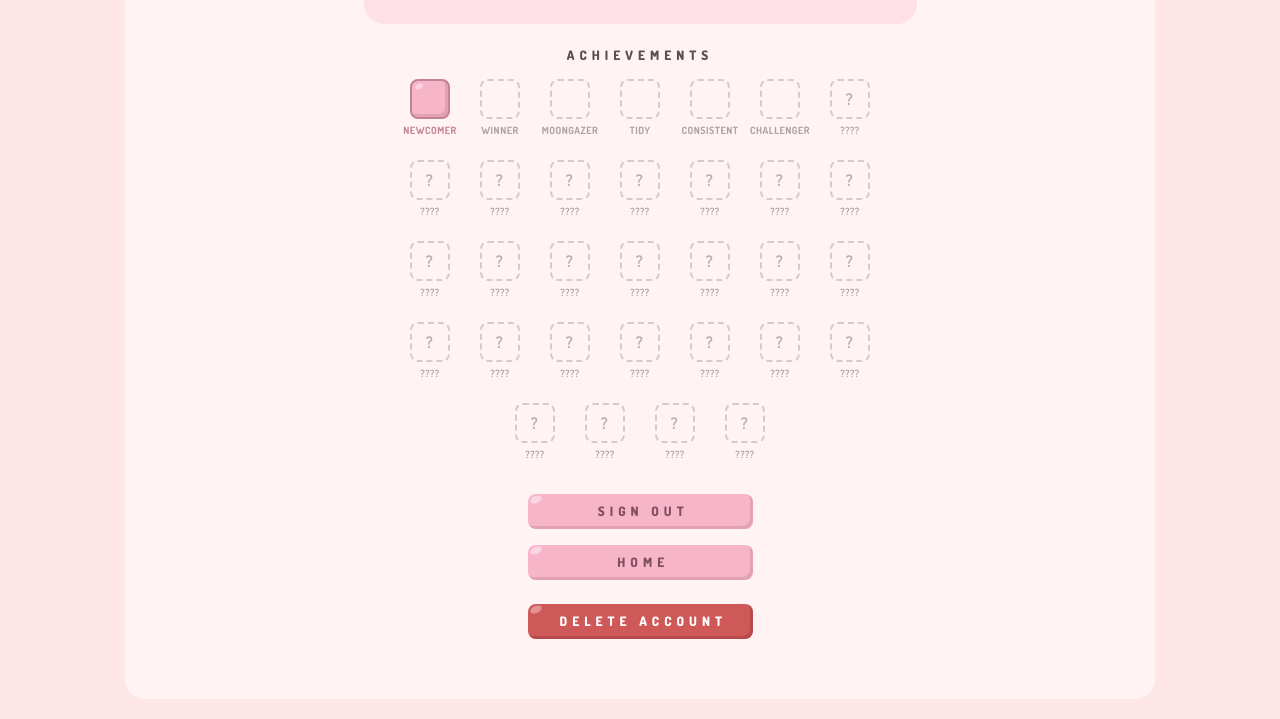
it: UserPage - Authenticated › opens delete modal on Delete Account click
(page scrolled)
Click the button "Delete Account": {"x": 640, "y": 621} [528,604,752,639]
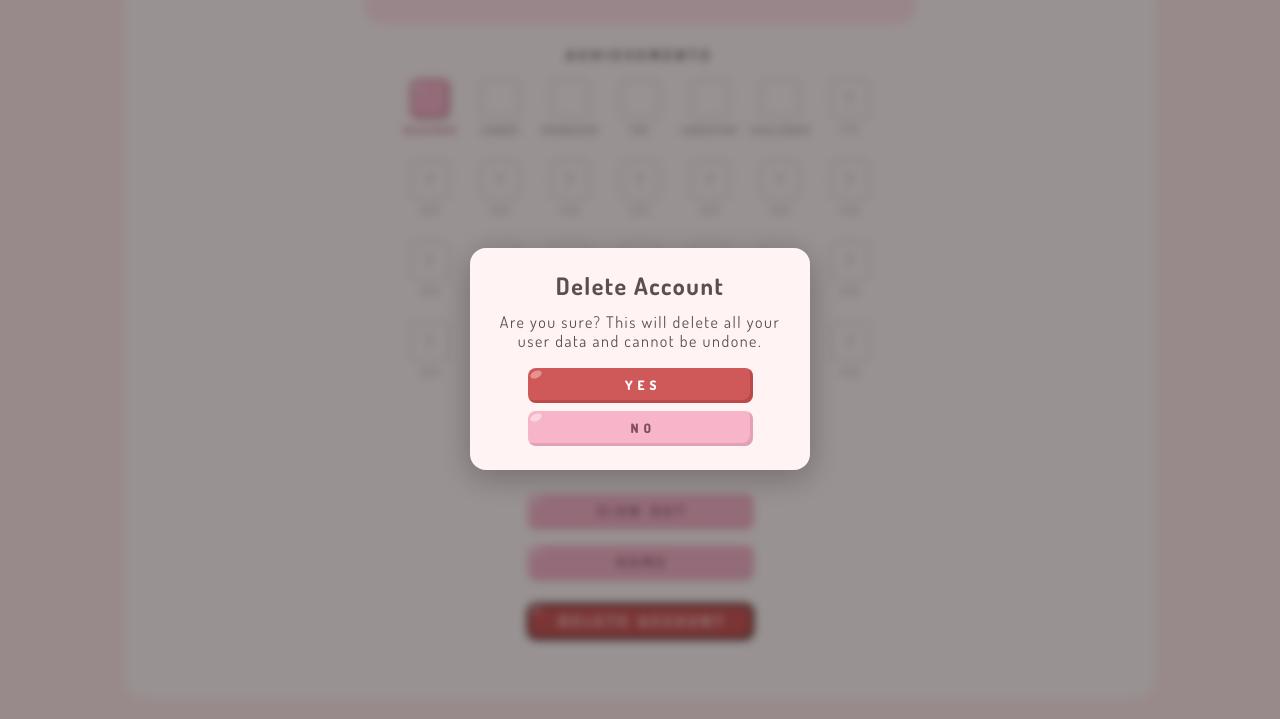
Result: the text "delete all your user data" is shown at [500,312,780,351]
